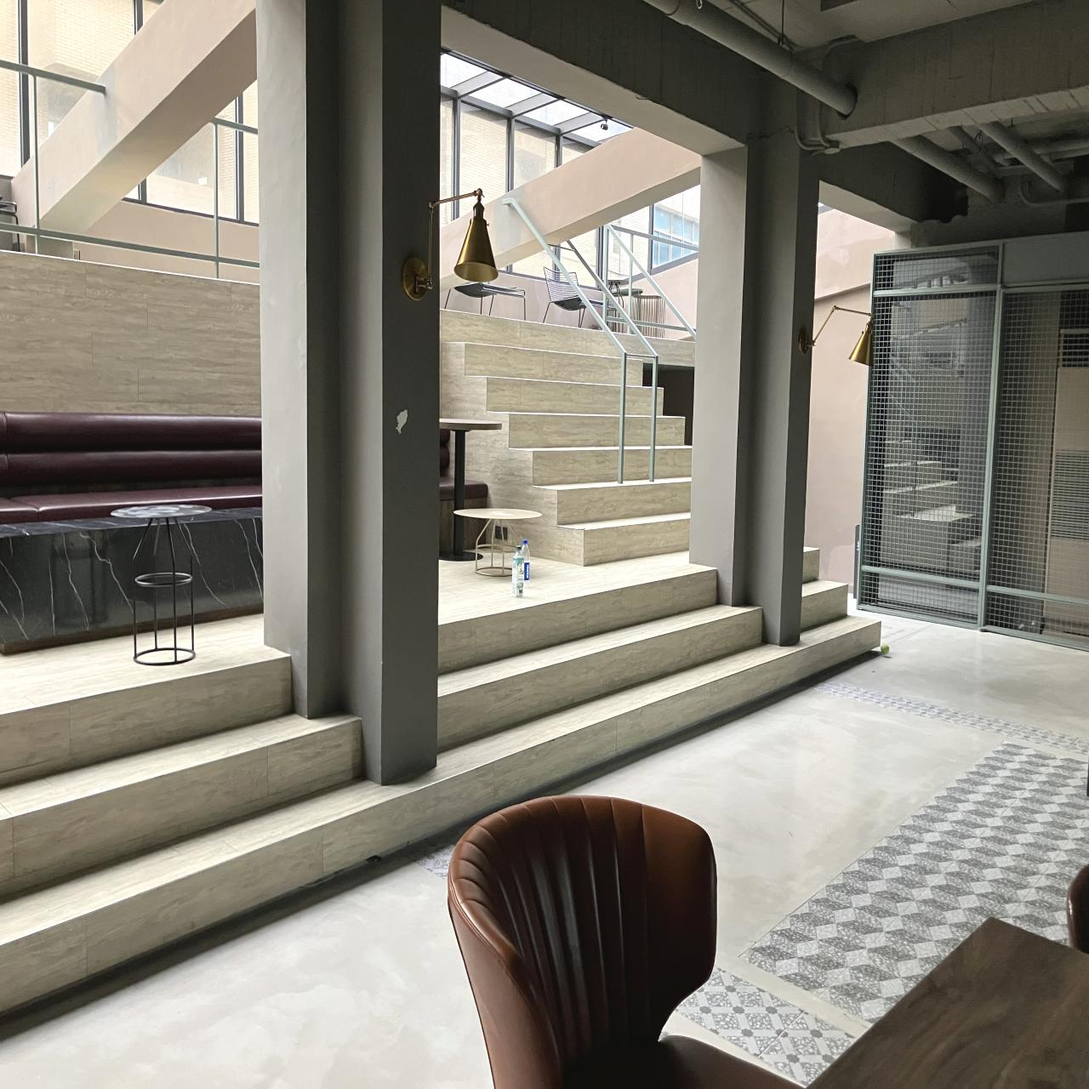plastic-bottle: (512, 547, 524, 597), (522, 539, 529, 582)
tennisball: (881, 643, 890, 655)
